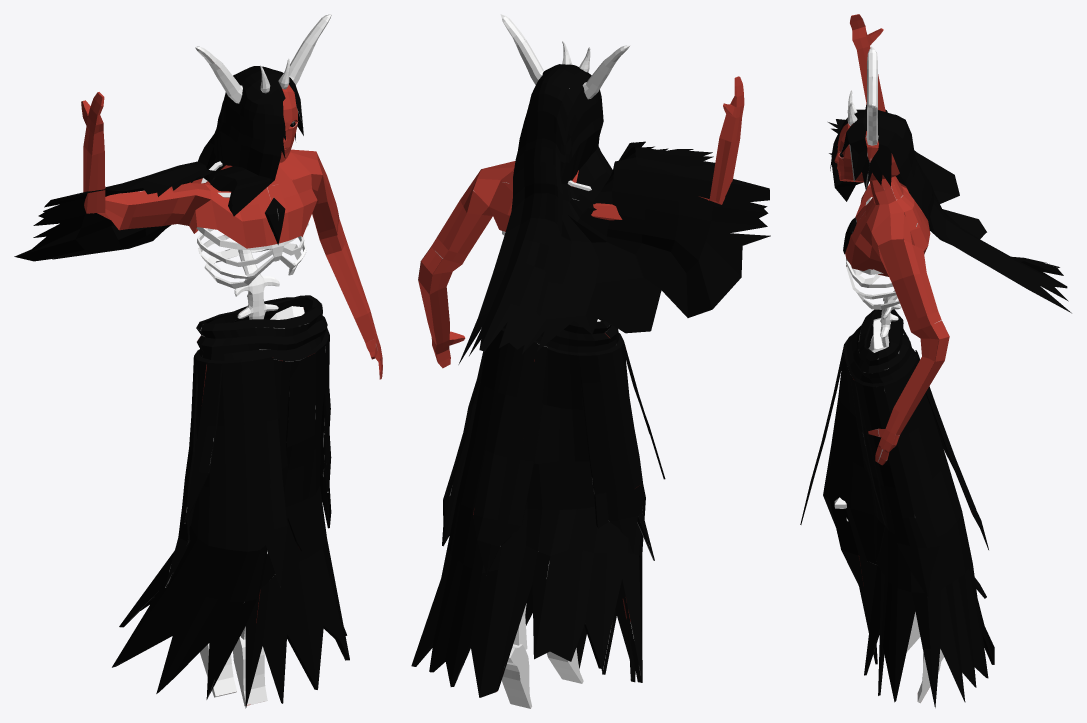
The model's file is cursedqueenattack_07.fbx.
3 views of the same model, side by side, from view 1: azimuth 30°, elevation 25°; view 2: azimuth 150°, elevation 25°; view 3: azimuth 270°, elevation 25° (orthographic). The views are drawn at different scales.
Visible parts, largest first — view 1: cursed_queen; view 2: cursed_queen; view 3: cursed_queen.
Part boxes in pixels (x1,y1,x2,y2): cursed_queen: (14, 14, 382, 708); cursed_queen: (411, 14, 770, 708); cursed_queen: (800, 14, 1071, 708).
Bounding box in the file's own units: 148 × 280 × 112.
